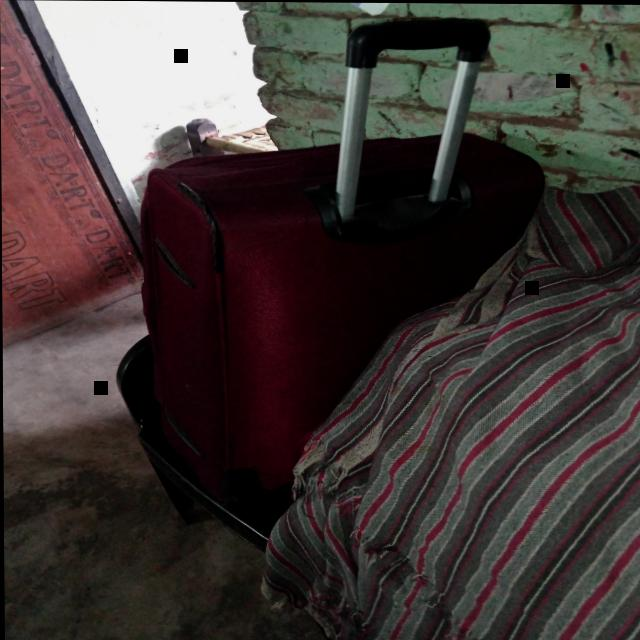luggage: (130, 125, 551, 519)
